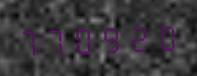nine: (99, 19, 125, 55)
seven: (17, 22, 43, 57), (44, 21, 70, 56)
two: (126, 19, 152, 54)
zero: (72, 20, 98, 56), (153, 18, 179, 53)
